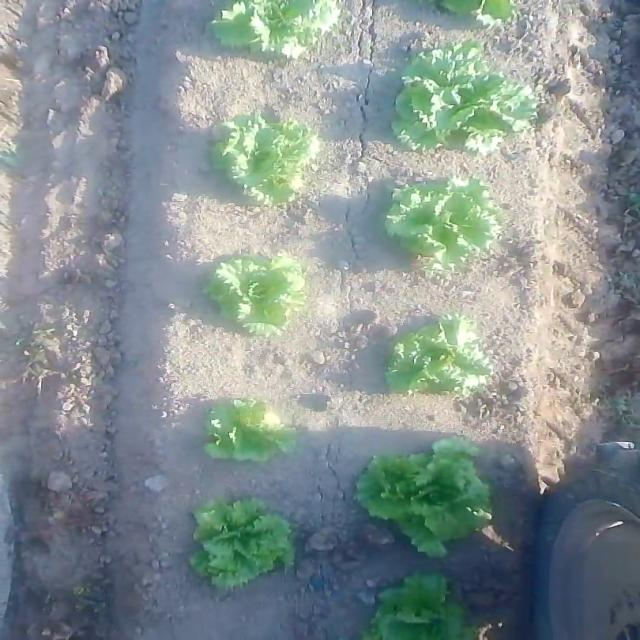Lettuce-Ready-to-Harvest: (364, 442, 498, 551), (386, 178, 502, 271), (218, 112, 318, 209), (190, 504, 297, 594), (212, 254, 301, 334), (202, 401, 293, 461)
